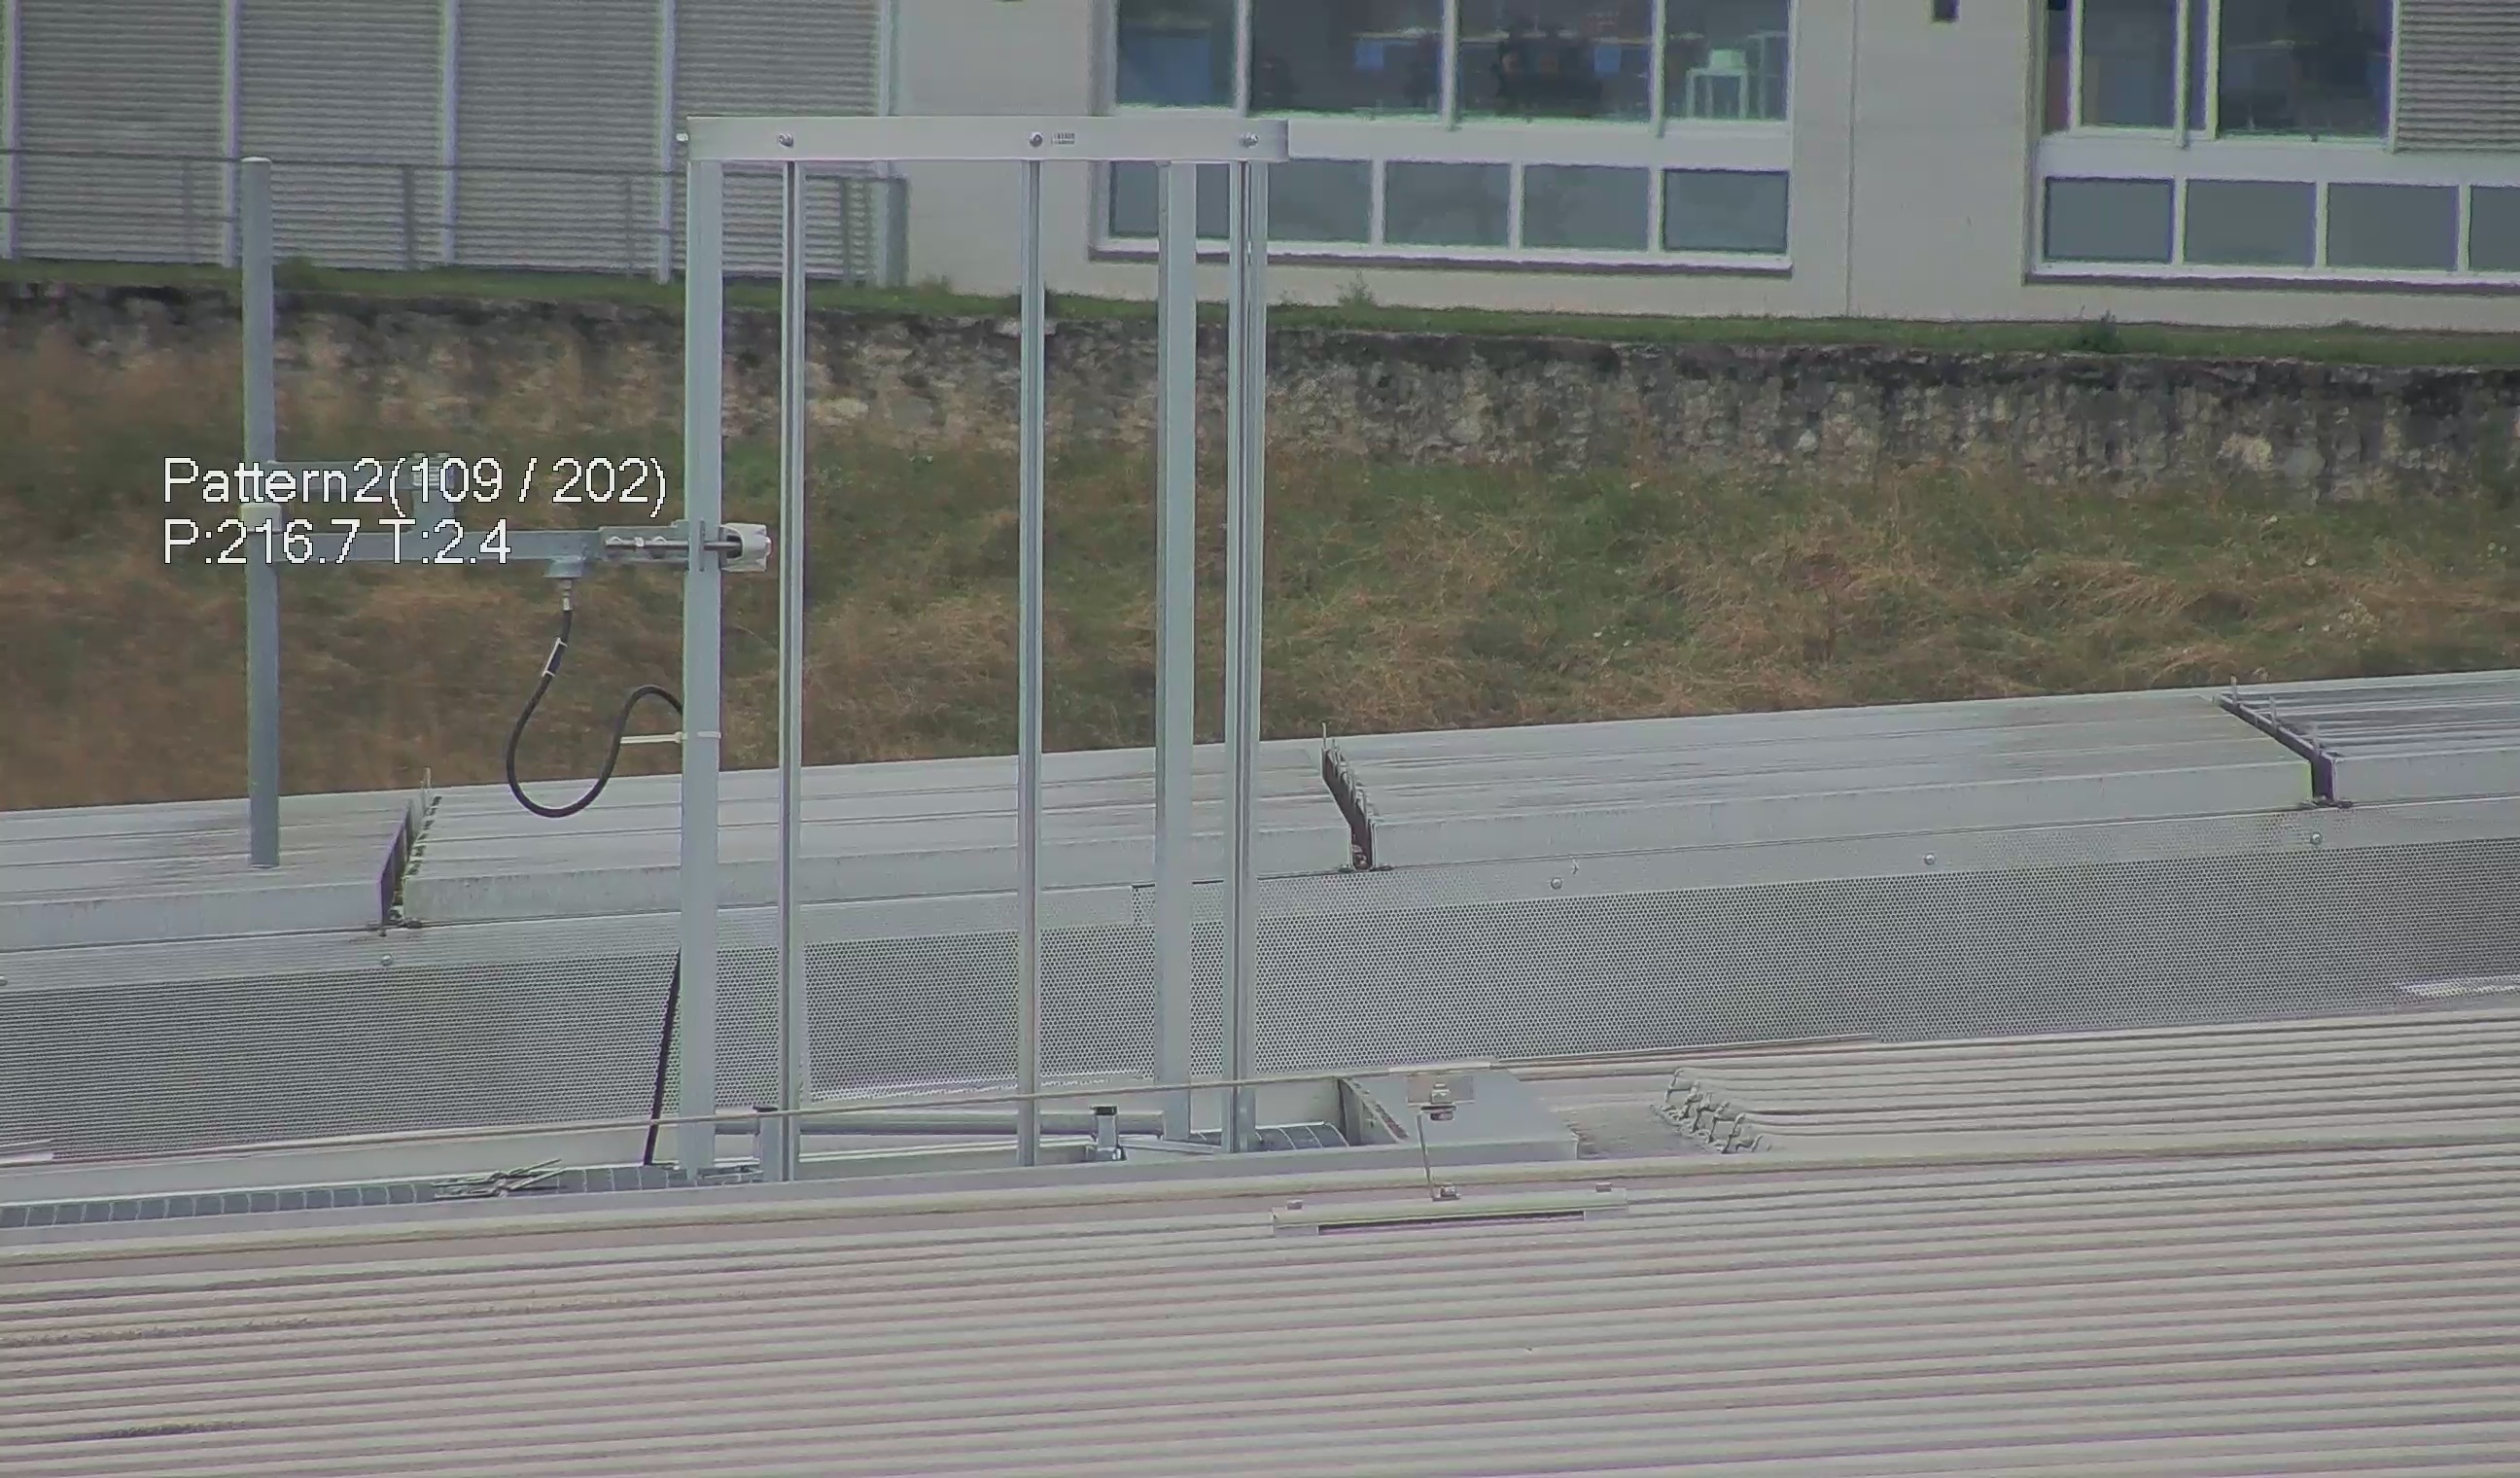Other: (1298, 728, 1395, 882)
